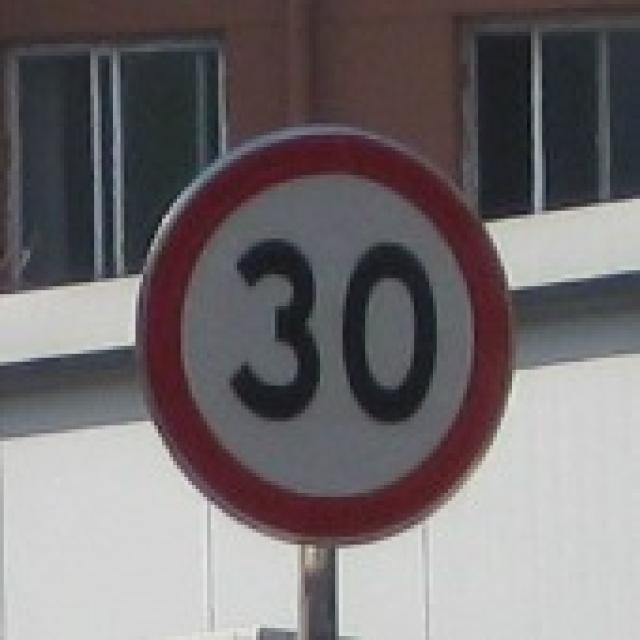Speed Limit -30-: (223, 232, 441, 430)
